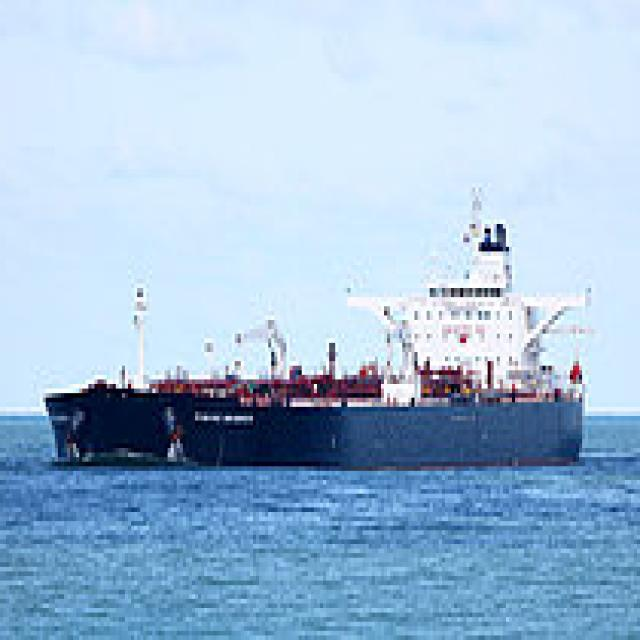Tanker: (46, 169, 600, 471)
